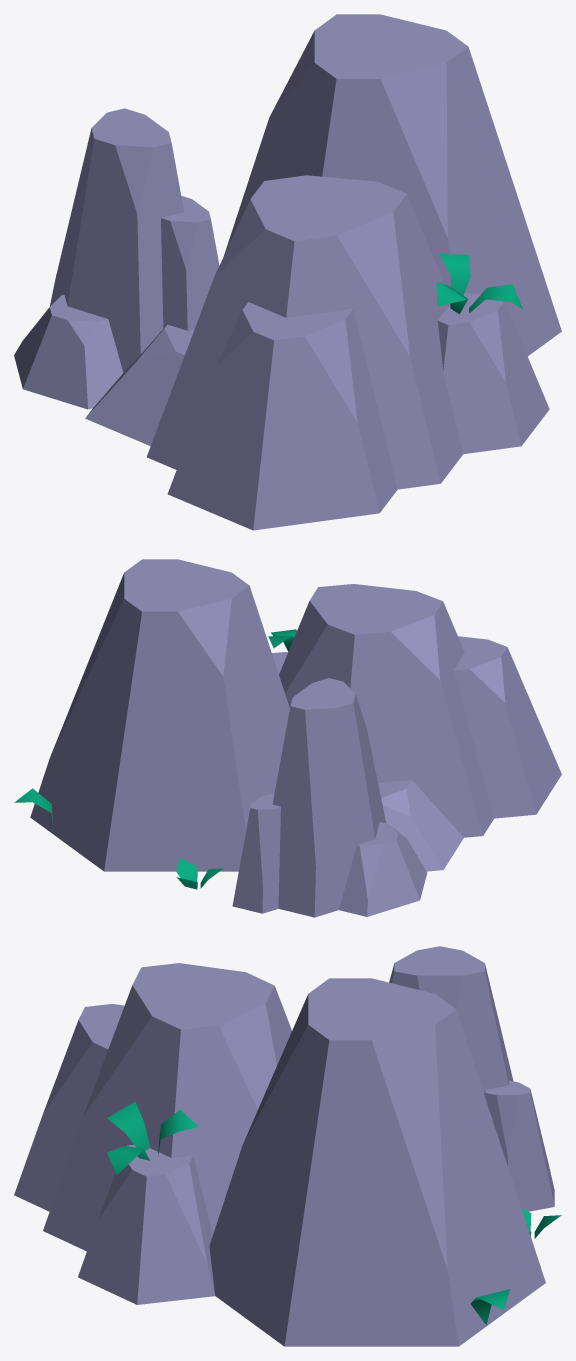
The model's file is Mountains.fbx.
3 renders of one model, top to bottom at view 1: azimuth 30°, elevation 25°; view 2: azimuth 150°, elevation 25°; view 3: azimuth 270°, elevation 25°, orthographic. The views are drawn at different scales.
Visible parts, largest first — view 1: mergedBlocks; view 2: mergedBlocks; view 3: mergedBlocks.
Boxes of the visible parts, box(x1,y1,x2,y2) form: mergedBlocks: box(14, 14, 561, 530); mergedBlocks: box(14, 559, 561, 917); mergedBlocks: box(14, 946, 561, 1346).
Bounding box in the file's own units: 27.25 × 16 × 29.04.
